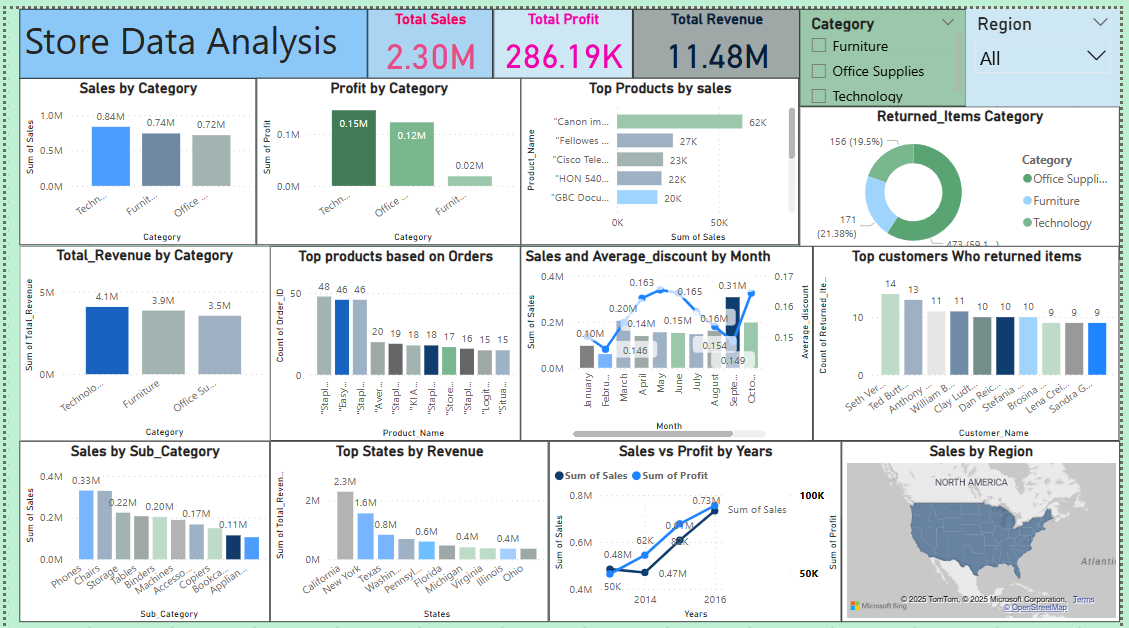

What the dashboard file says about the page in this screenshot:
{"tool":"powerbi","page":{"name":"Page 1","canvas":[1280,720],"ordinal":0},"visuals":[{"type":"clusteredColumnChart","title":"Sales by Category","fields":{"Category":["Modified_store_data.Category"],"Y":["Sum(Modified_store_data.Sales)"]},"box":[16,80,272,192],"z":0},{"type":"clusteredColumnChart","title":"Top products based on Orders","fields":{"Category":["Modified_store_data.Product_Name"],"Y":["CountNonNull(Modified_store_data.Order_ID)"]},"box":[304,272,288,224],"z":1000},{"type":"card","title":"Total Sales","fields":{"Values":["Sum(Modified_store_data.Sales)"]},"box":[416,0,144,80],"z":2000},{"type":"card","title":"Total Profit","fields":{"Values":["Sum(Modified_store_data.Profit)"]},"box":[560,0,160,80],"z":3000},{"type":"clusteredColumnChart","title":"Sales by Sub_Category","fields":{"Category":["Modified_store_data.Sub_Category"],"Y":["Sum(Modified_store_data.Sales)"]},"box":[16,496,288,208],"z":4000},{"type":"donutChart","title":" Returned_Items Category","fields":{"Category":["Modified_store_data.Category"],"Y":["CountNonNull(Modified_store_data.Returned_Items)"]},"box":[912,112,368,176],"z":5000},{"type":"clusteredColumnChart","title":"Top customers Who returned items","fields":{"Y":["CountNonNull(Modified_store_data.Returned_Items)"],"Category":["Modified_store_data.Customer_Name"]},"box":[928,272,352,224],"z":6000},{"type":"clusteredColumnChart","title":"Top States by Revenue","fields":{"Category":["Modified_store_data.States"],"Y":["Sum(Modified_store_data.Total_Revenue)"]},"box":[304,496,320,208],"z":7000},{"type":"card","title":"Total Revenue","fields":{"Values":["Sum(Modified_store_data.Total_Revenue)"]},"box":[720,0,192,80],"z":8000},{"type":"lineChart","title":" Sales vs Profit by Years","fields":{"Category":["Modified_store_data.Years"],"Y":["Sum(Modified_store_data.Sales)"],"Y2":["Sum(Modified_store_data.Profit)"]},"box":[624,496,336,208],"z":9000},{"type":"barChart","title":"Top Products by sales","fields":{"Category":["Modified_store_data.Product_Name"],"Y":["Sum(Modified_store_data.Sales)"]},"box":[592,80,320,192],"z":10000},{"type":"textbox","box":[16,0,400,80],"z":11000},{"type":"columnChart","title":" Profit by Category","fields":{"Category":["Modified_store_data.Category"],"Y":["Sum(Modified_store_data.Profit)"]},"box":[288,80,304,192],"z":12000},{"type":"filledMap","title":"Sales by Region","fields":{"Category":["Modified_store_data.States"]},"box":[960,496,320,208],"z":13000},{"type":"lineStackedColumnComboChart","title":"Sales and Average_discount by Month","fields":{"Category":["Modified_store_data.Order_Date.Variation.Date Hierarchy.Month"],"Y":["Sum(Modified_store_data.Sales)"],"Y2":["Modified_store_data.Average_discount"]},"box":[592,272,336,224],"z":14000},{"type":"slicer","fields":{"Values":["Modified_store_data.Category"]},"box":[912,0,192,112],"z":15000},{"type":"slicer","fields":{"Values":["Modified_store_data.Region"]},"box":[1104,0,176,112],"z":16000},{"type":"columnChart","title":"Total_Revenue by Category","fields":{"Category":["Modified_store_data.Category"],"Y":["Sum(Modified_store_data.Total_Revenue)"]},"box":[16,272,288,224],"z":17000}]}

Visuals, with their boxes in screenshot pixels (x1, y1, x2, y2), scaled from the page's 1280x720 canvas onto the 1129x628 screenshot:
"Sales by Category" clusteredColumnChart: 14/70/254/237
"Top products based on Orders" clusteredColumnChart: 268/237/522/433
"Total Sales" card: 367/0/494/70
"Total Profit" card: 494/0/635/70
"Sales by Sub_Category" clusteredColumnChart: 14/433/268/614
" Returned_Items Category" donutChart: 804/98/1128/251
"Top customers Who returned items" clusteredColumnChart: 819/237/1128/433
"Top States by Revenue" clusteredColumnChart: 268/433/550/614
"Total Revenue" card: 635/0/804/70
" Sales vs Profit by Years" lineChart: 550/433/847/614
"Top Products by sales" barChart: 522/70/804/237
textbox: 14/0/367/70
" Profit by Category" columnChart: 254/70/522/237
"Sales by Region" filledMap: 847/433/1128/614
"Sales and Average_discount by Month" lineStackedColumnComboChart: 522/237/819/433
slicer - Modified_store_data.Category: 804/0/974/98
slicer - Modified_store_data.Region: 974/0/1128/98
"Total_Revenue by Category" columnChart: 14/237/268/433
